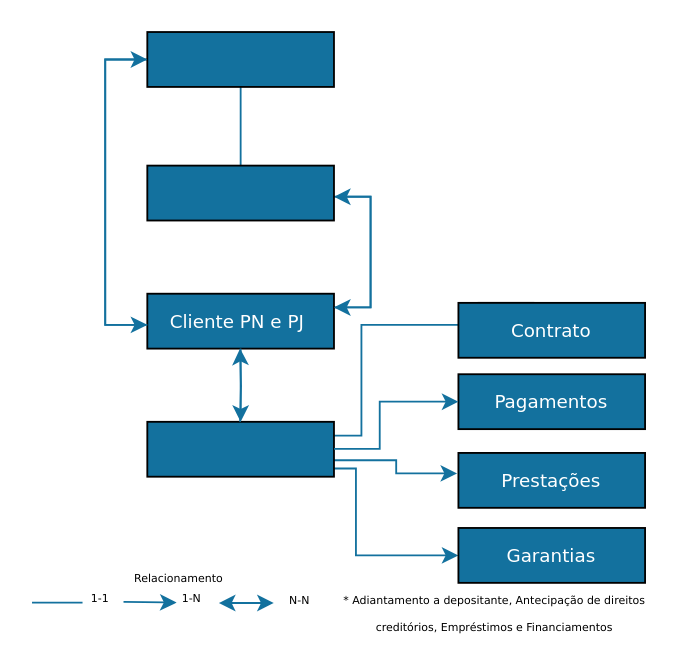
Image size: 688x670. Some labels were removed from this diagram. Here are the shapes that lost their labels. From the top down, the centre of each, then its label:
At [239,58]: "Marca".
At [239,192]: "Instituição".
At [239,448]: "Operação de Crédito *".
